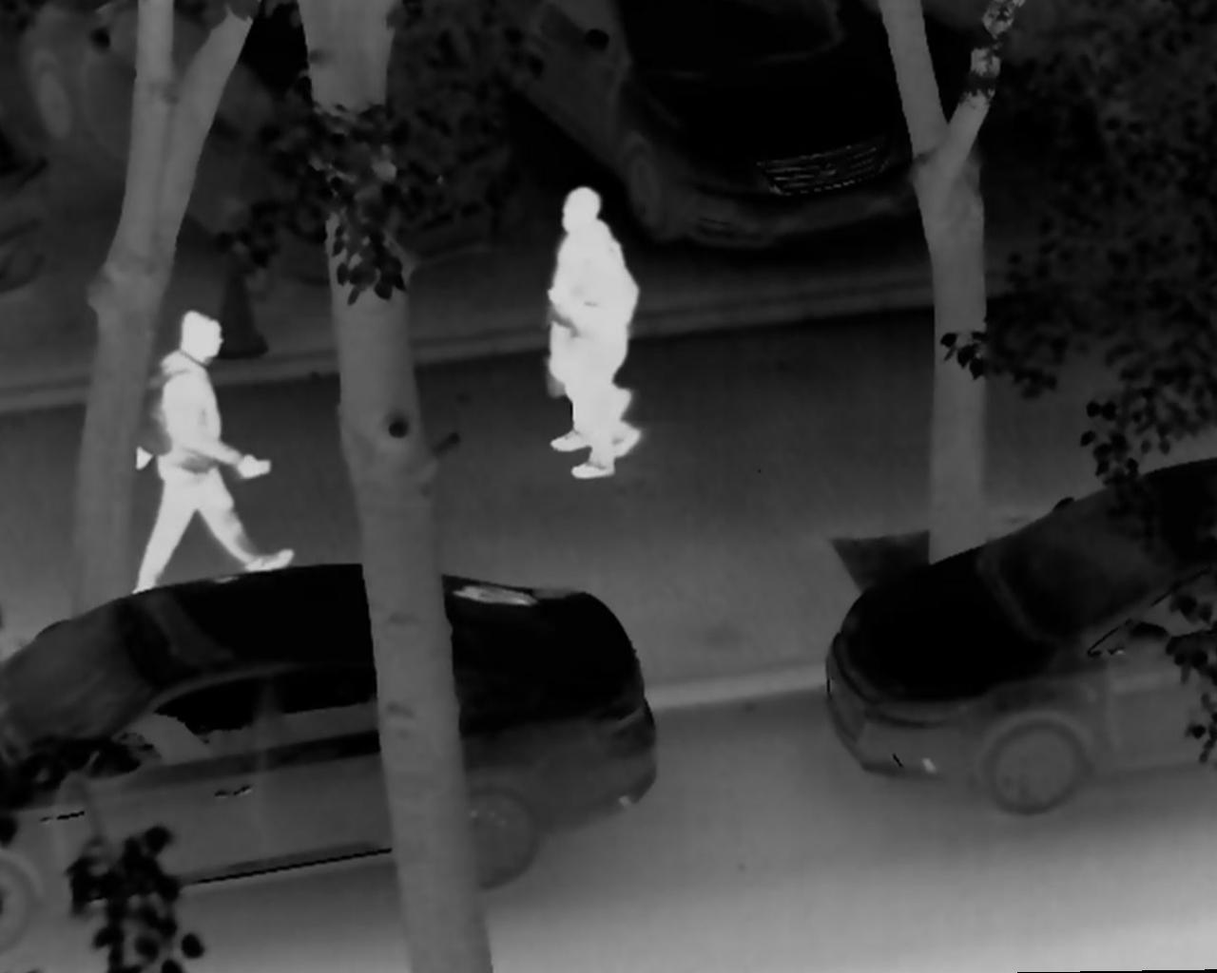person: (129, 304, 297, 597), (531, 185, 632, 455), (560, 227, 647, 485)
